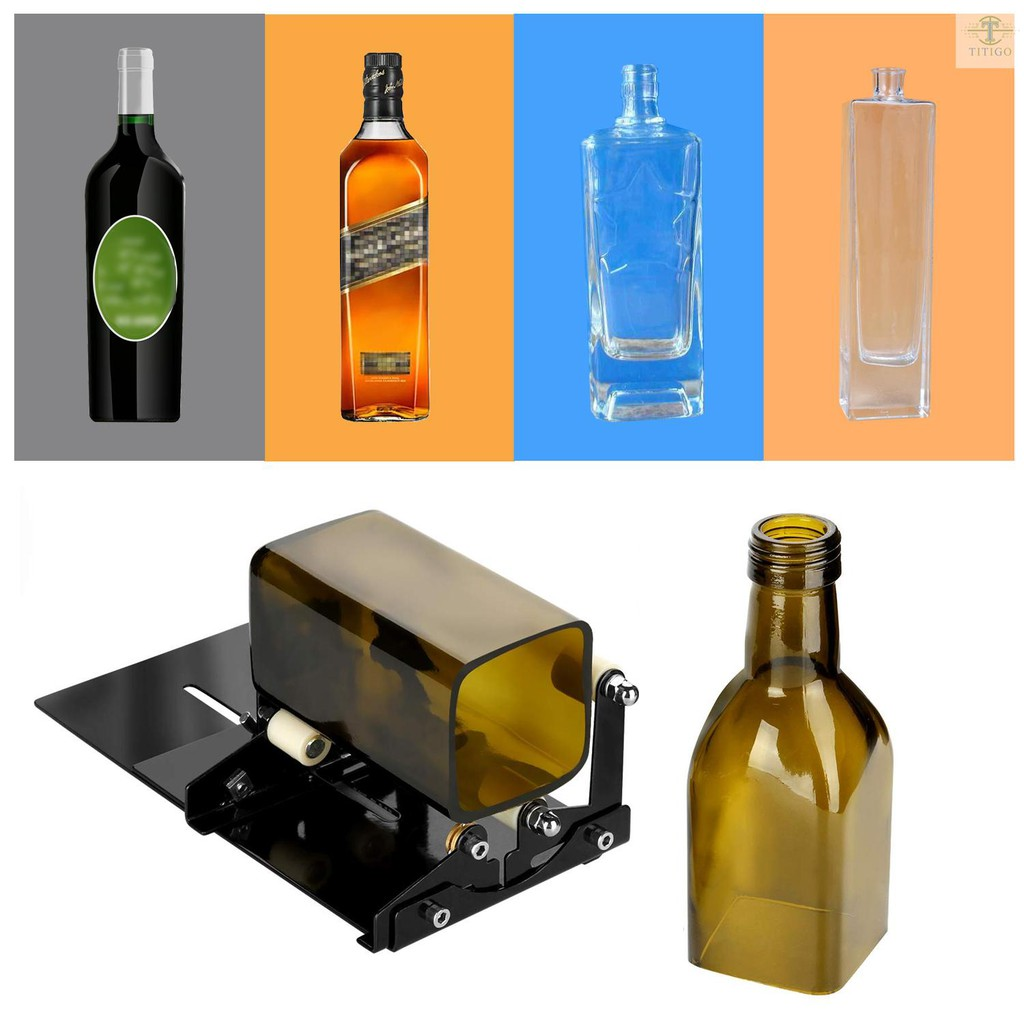glass_bottle: (675, 508, 902, 1006), (571, 53, 714, 425), (75, 35, 192, 435), (324, 45, 438, 431), (830, 60, 944, 437)
